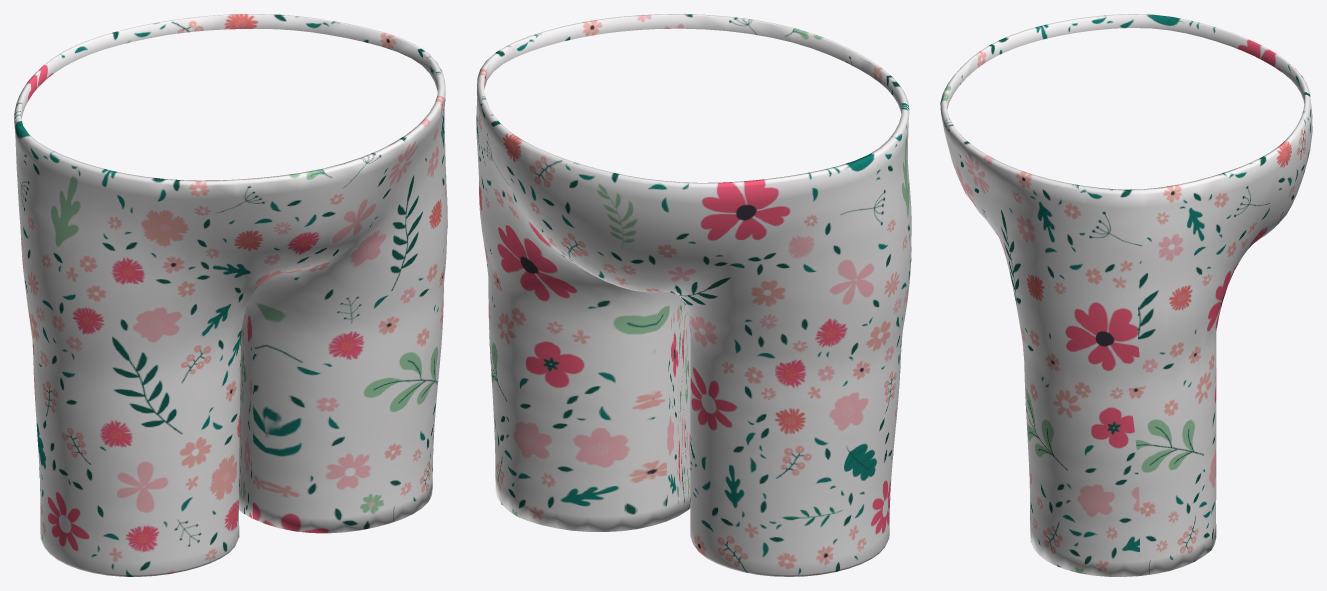
The model's file is hb_hani_pants.gltf.
The picture shows the model from 3 angles, left to right: view 1: azimuth 30°, elevation 25°; view 2: azimuth 150°, elevation 25°; view 3: azimuth 270°, elevation 25°; orthographic projection. The views are drawn at different scales.
Parts seen in each view (by area): view 1: hb_hani_pants; view 2: hb_hani_pants; view 3: hb_hani_pants.
Boxes of the visible parts, bbox=[...] form: hb_hani_pants: bbox=[14, 14, 447, 576]; hb_hani_pants: bbox=[476, 14, 911, 576]; hb_hani_pants: bbox=[940, 14, 1312, 576].
Bounding box in the file's own units: 0.0352 × 0.0349 × 0.0302.
Materials: 1 (1 with a texture image).
